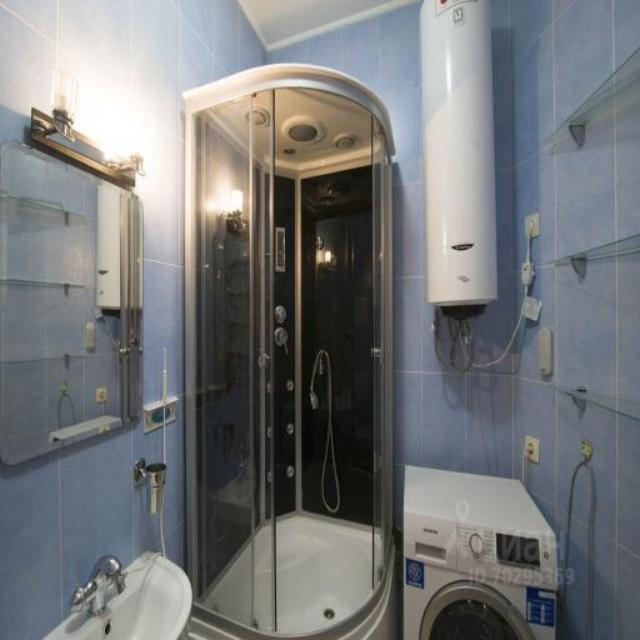Washing-Machine: (405, 466, 557, 636)
